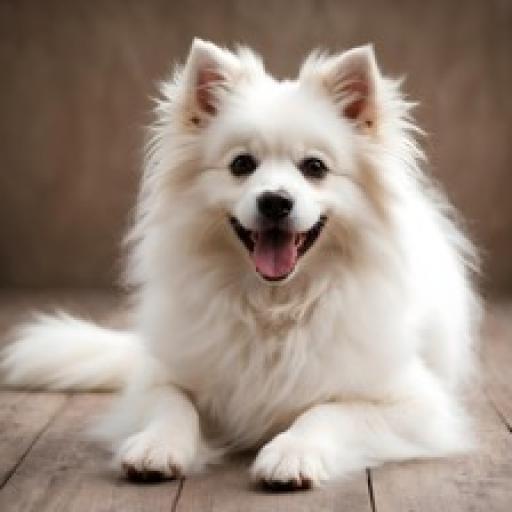dog: (0, 35, 485, 488)
